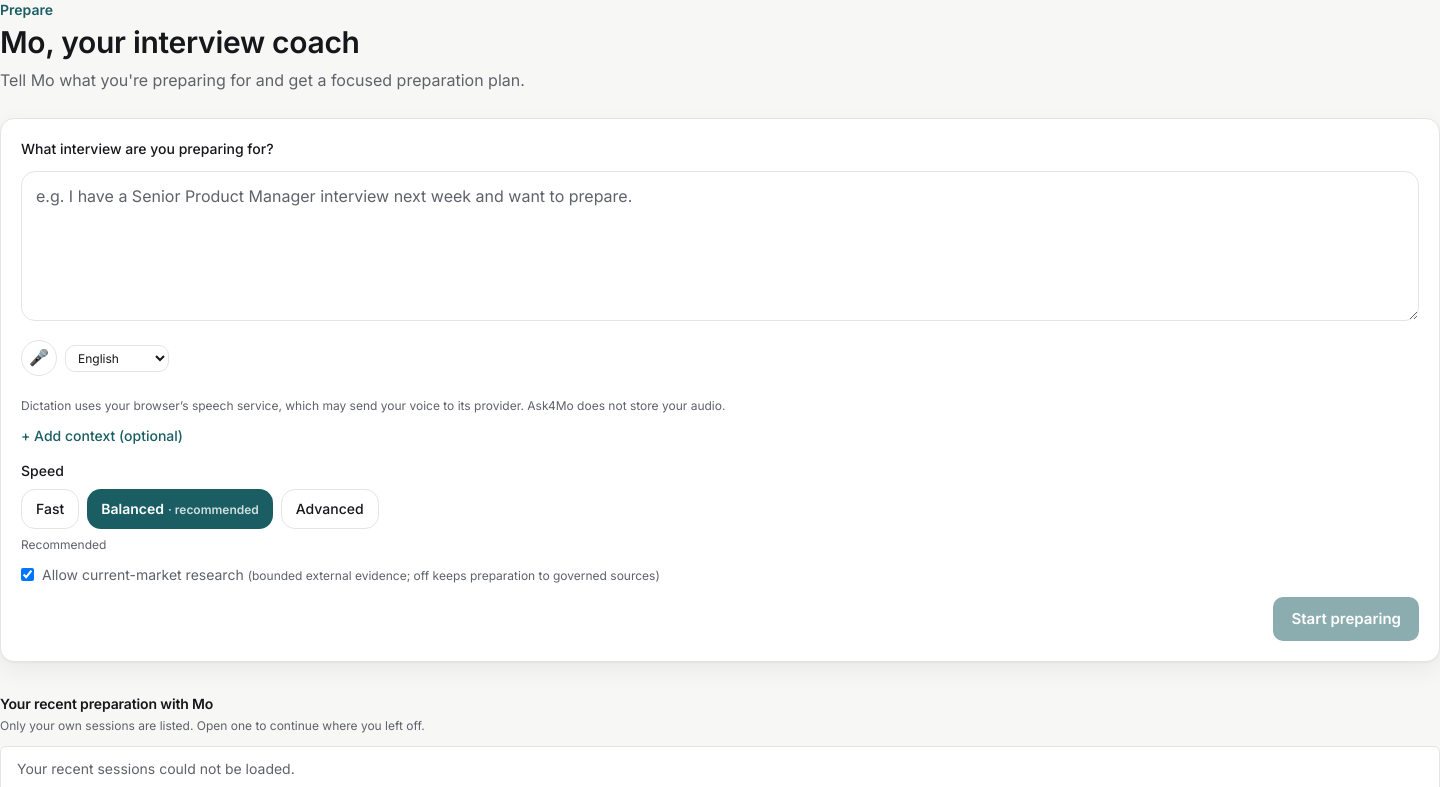
Practice handoff completion › does NOT show the completion form for a generic 422
Type "Prep" into the text box labelled "What interview are you preparing for?" at (720, 246), box [21, 171, 1419, 321]
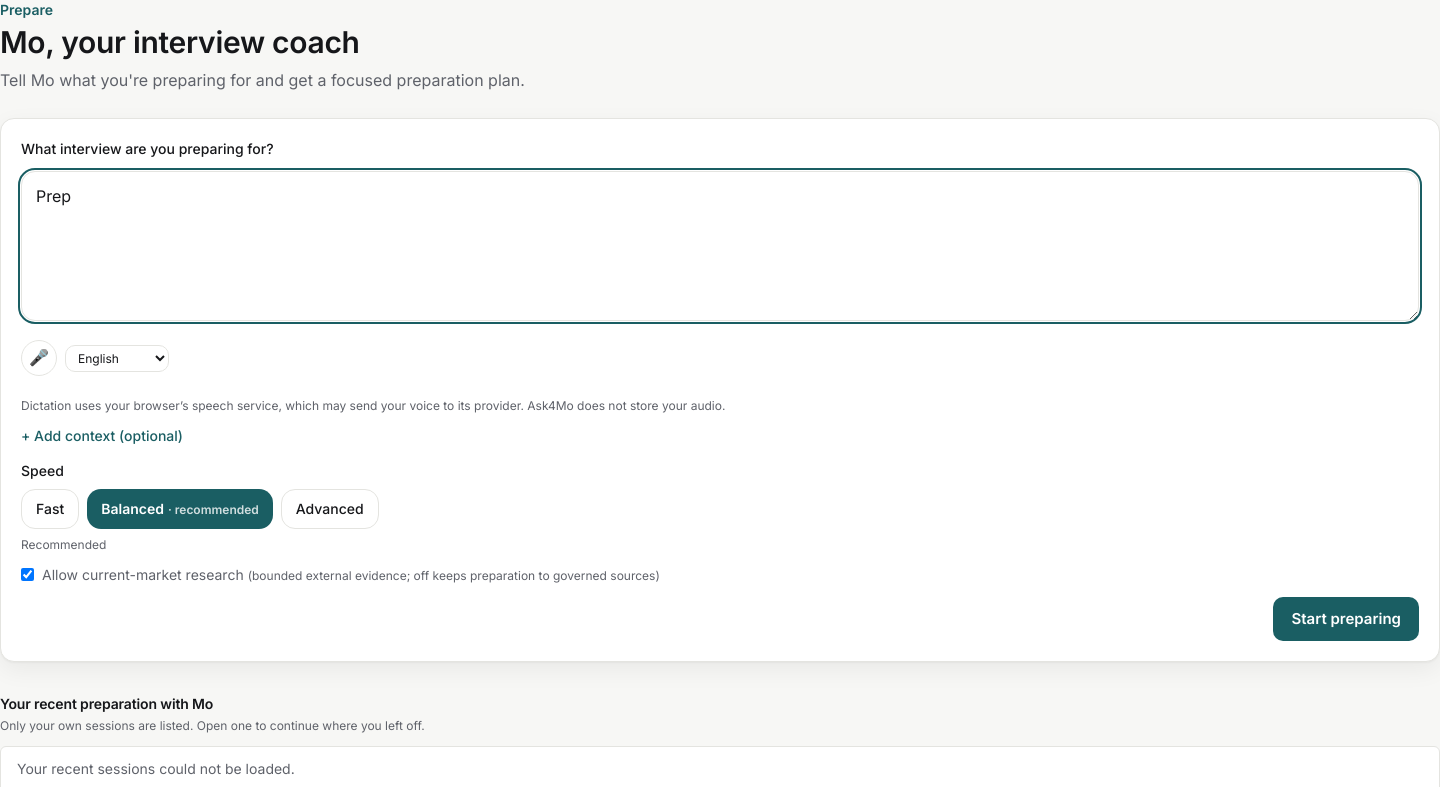
Click the button "Start preparing" at (1346, 619), box [1273, 597, 1419, 641]
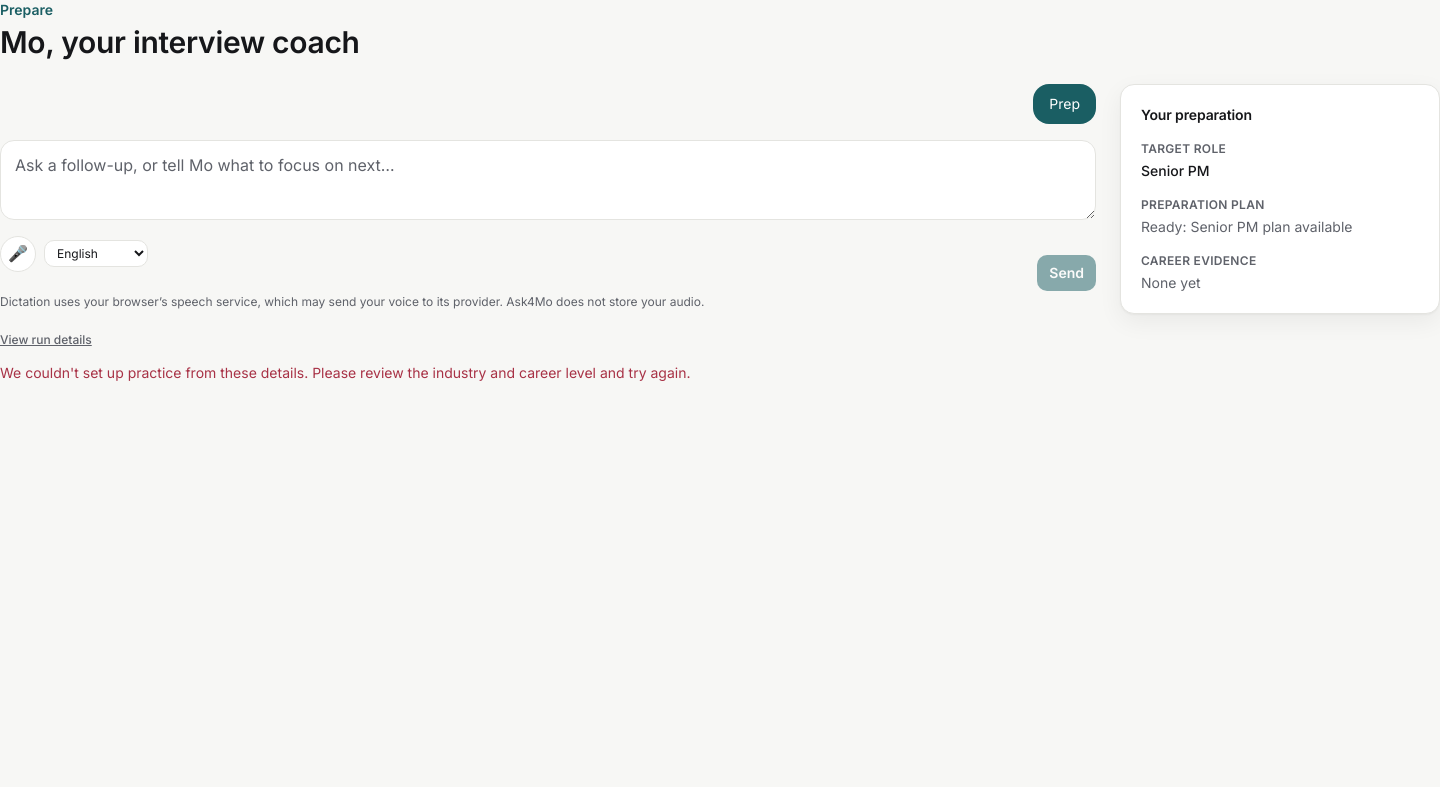
Check: the text "couldn't set up practice" is shown, box [0, 364, 690, 381]
